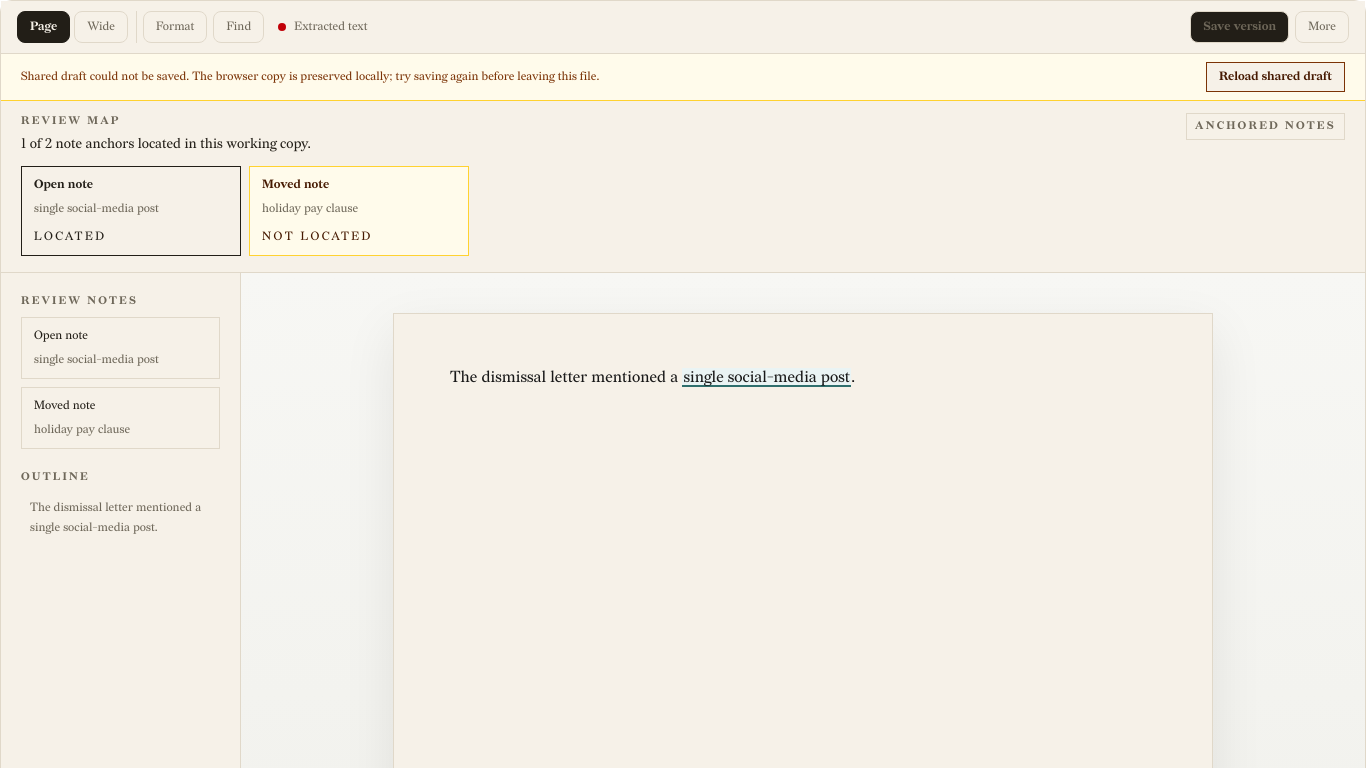
Test: DocumentRichEditor surface › shows which review notes are located in the working copy
Expected: the element with test id "document-editor-review-map" shows "1 of 2 note anchors located", [1,101,1365,272]
Expected: the button "Moved note holiday pay clause Not located" is shown, [249,166,469,256]
Click the button "Open note single social-media post Located" at (131, 210), box [21,166,241,256]
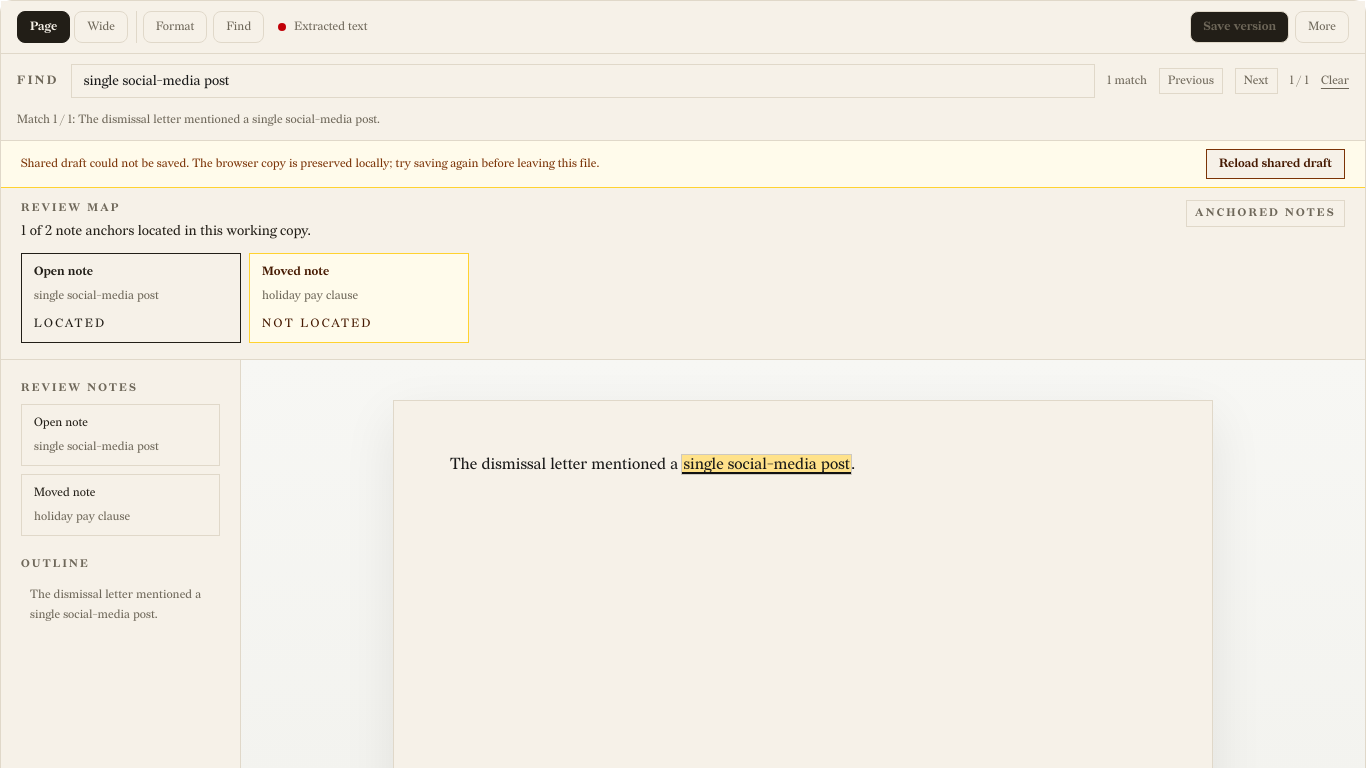
Now the search field labelled "Find" holds "single social-media post", box [71,64,1095,98]
